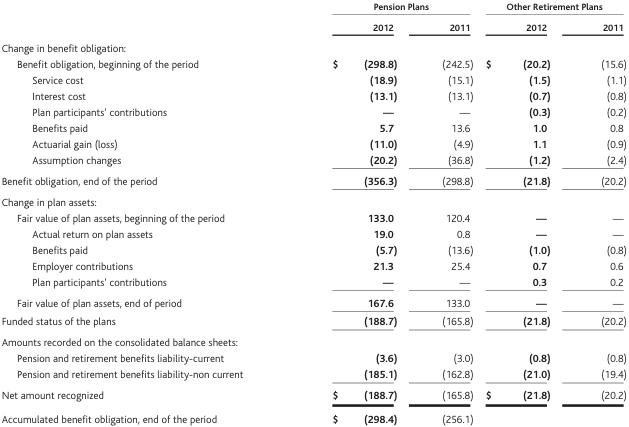table: (0, 0, 625, 424)
table column: (0, 0, 286, 424), (286, 0, 418, 424), (478, 0, 574, 424), (418, 0, 478, 424), (574, 0, 625, 424)
table column header: (0, 0, 625, 36)
table projected row header: (0, 36, 625, 55), (0, 190, 625, 209), (0, 331, 625, 349)
table row: (0, 384, 625, 406), (0, 169, 625, 190), (0, 16, 625, 36), (0, 291, 625, 311), (0, 311, 625, 331), (0, 36, 625, 55), (0, 190, 625, 209), (0, 365, 625, 384), (0, 151, 625, 169), (0, 273, 625, 291), (0, 331, 625, 349), (0, 406, 625, 424), (0, 0, 625, 16), (0, 55, 625, 71), (0, 71, 625, 87), (0, 87, 625, 103), (0, 103, 625, 119), (0, 119, 625, 135), (0, 135, 625, 151), (0, 209, 625, 225), (0, 225, 625, 241), (0, 241, 625, 257), (0, 257, 625, 273), (0, 349, 625, 365)
table spanning cell: (286, 0, 478, 16), (478, 0, 625, 16)
